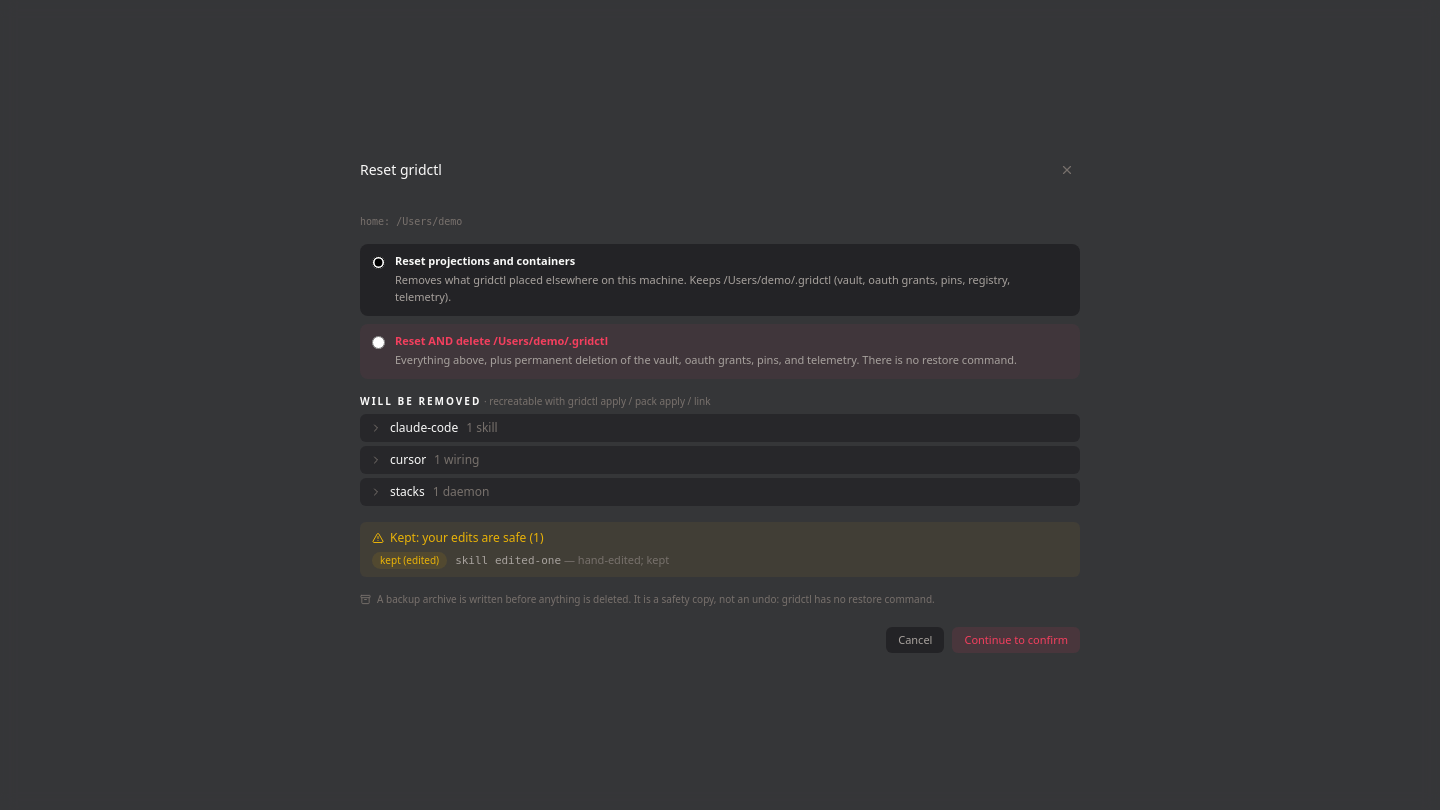
Test case: ResetDialog › executes with the preview token and announces the result via role=alert
Expected: the heading "Will be removed" is shown, [360, 394, 481, 408]
Click the button "Continue to confirm" at (1016, 640), box [952, 627, 1080, 654]
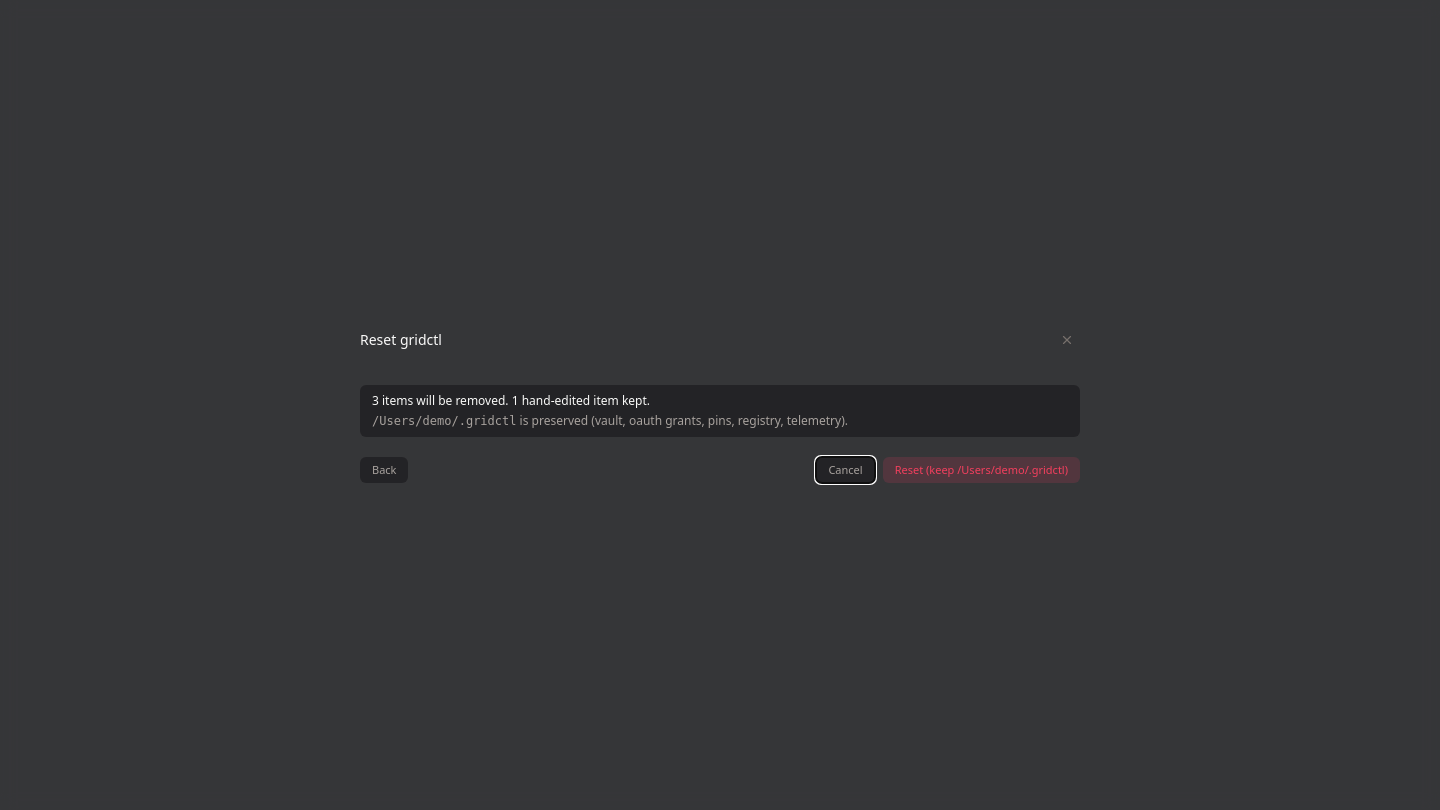
// FR17: the confirm button names the resolved path, never an abstract noun.
Click the button "Reset (keep /Users/demo/.gridctl)" at (981, 470), box [883, 457, 1080, 483]
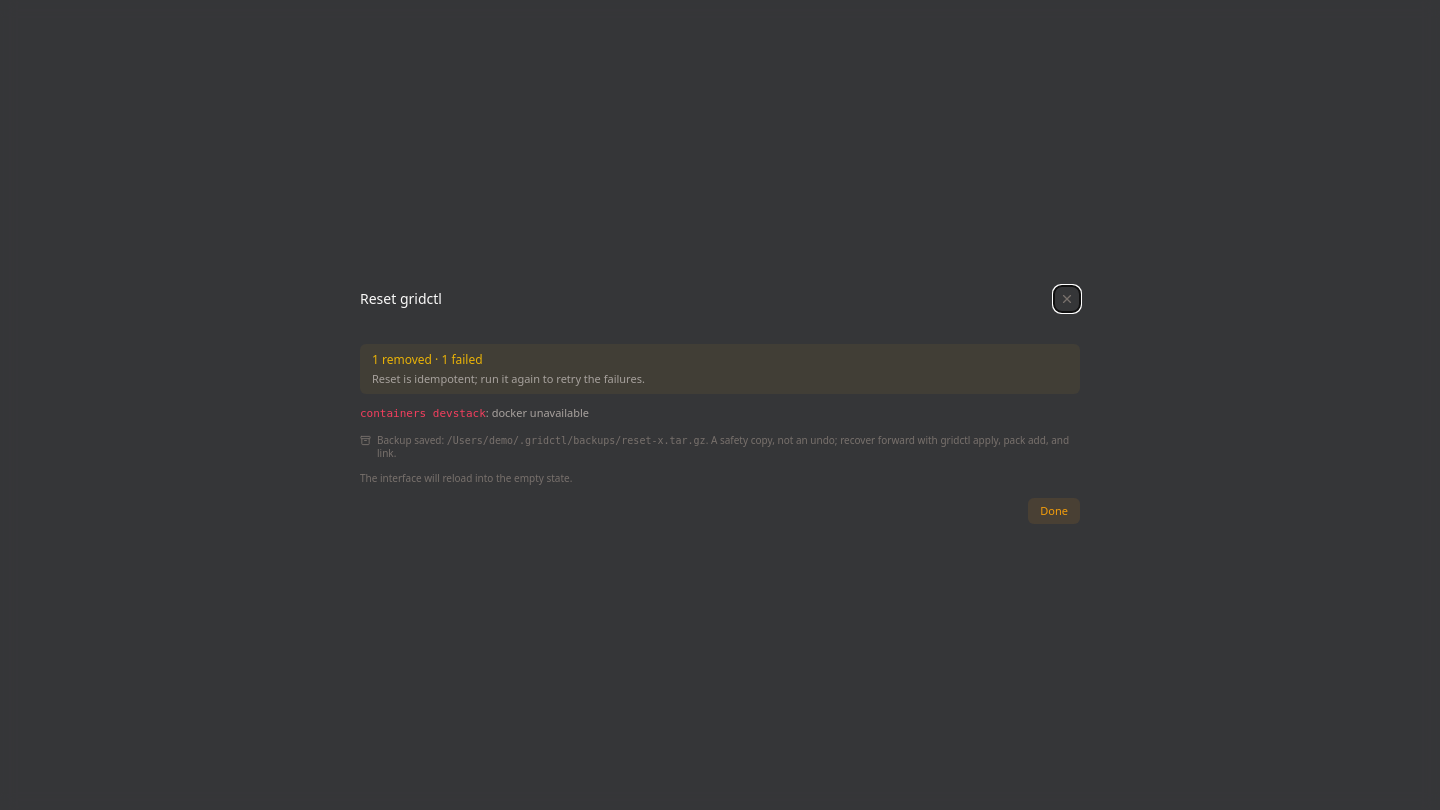
Expected: the message shows "1 removed · 1 failed", [360, 344, 1080, 394]
Expected: the text "Reset is idempotent; run it again to retry the failures." is shown, [372, 370, 645, 386]
Expected: the text ": docker unavailable" is shown, [486, 405, 589, 420]
